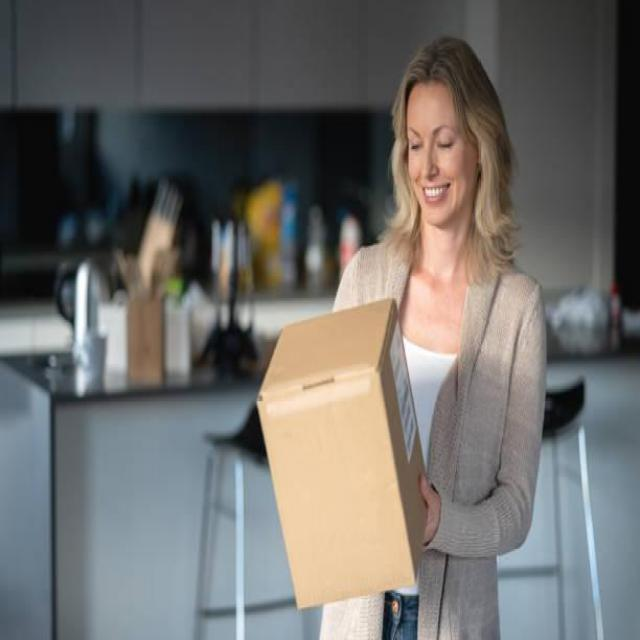box: (252, 290, 436, 614)
